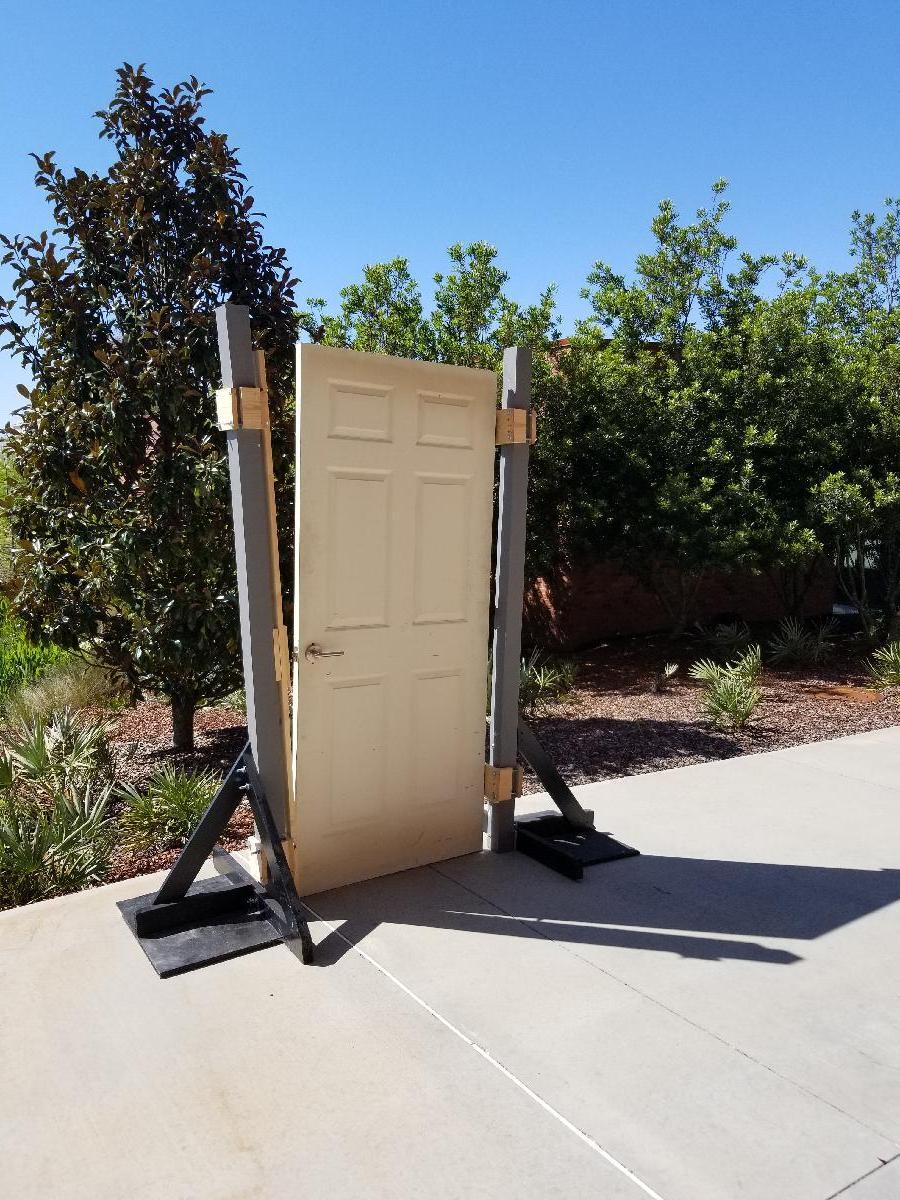door: (276, 341, 500, 901)
handle: (305, 640, 345, 665)
